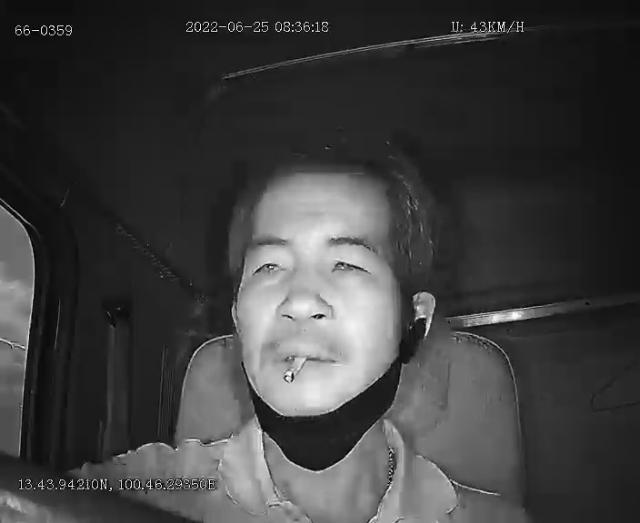SafeDriving: (322, 243, 377, 282), (245, 243, 296, 285)
Smoking: (284, 355, 310, 383)
